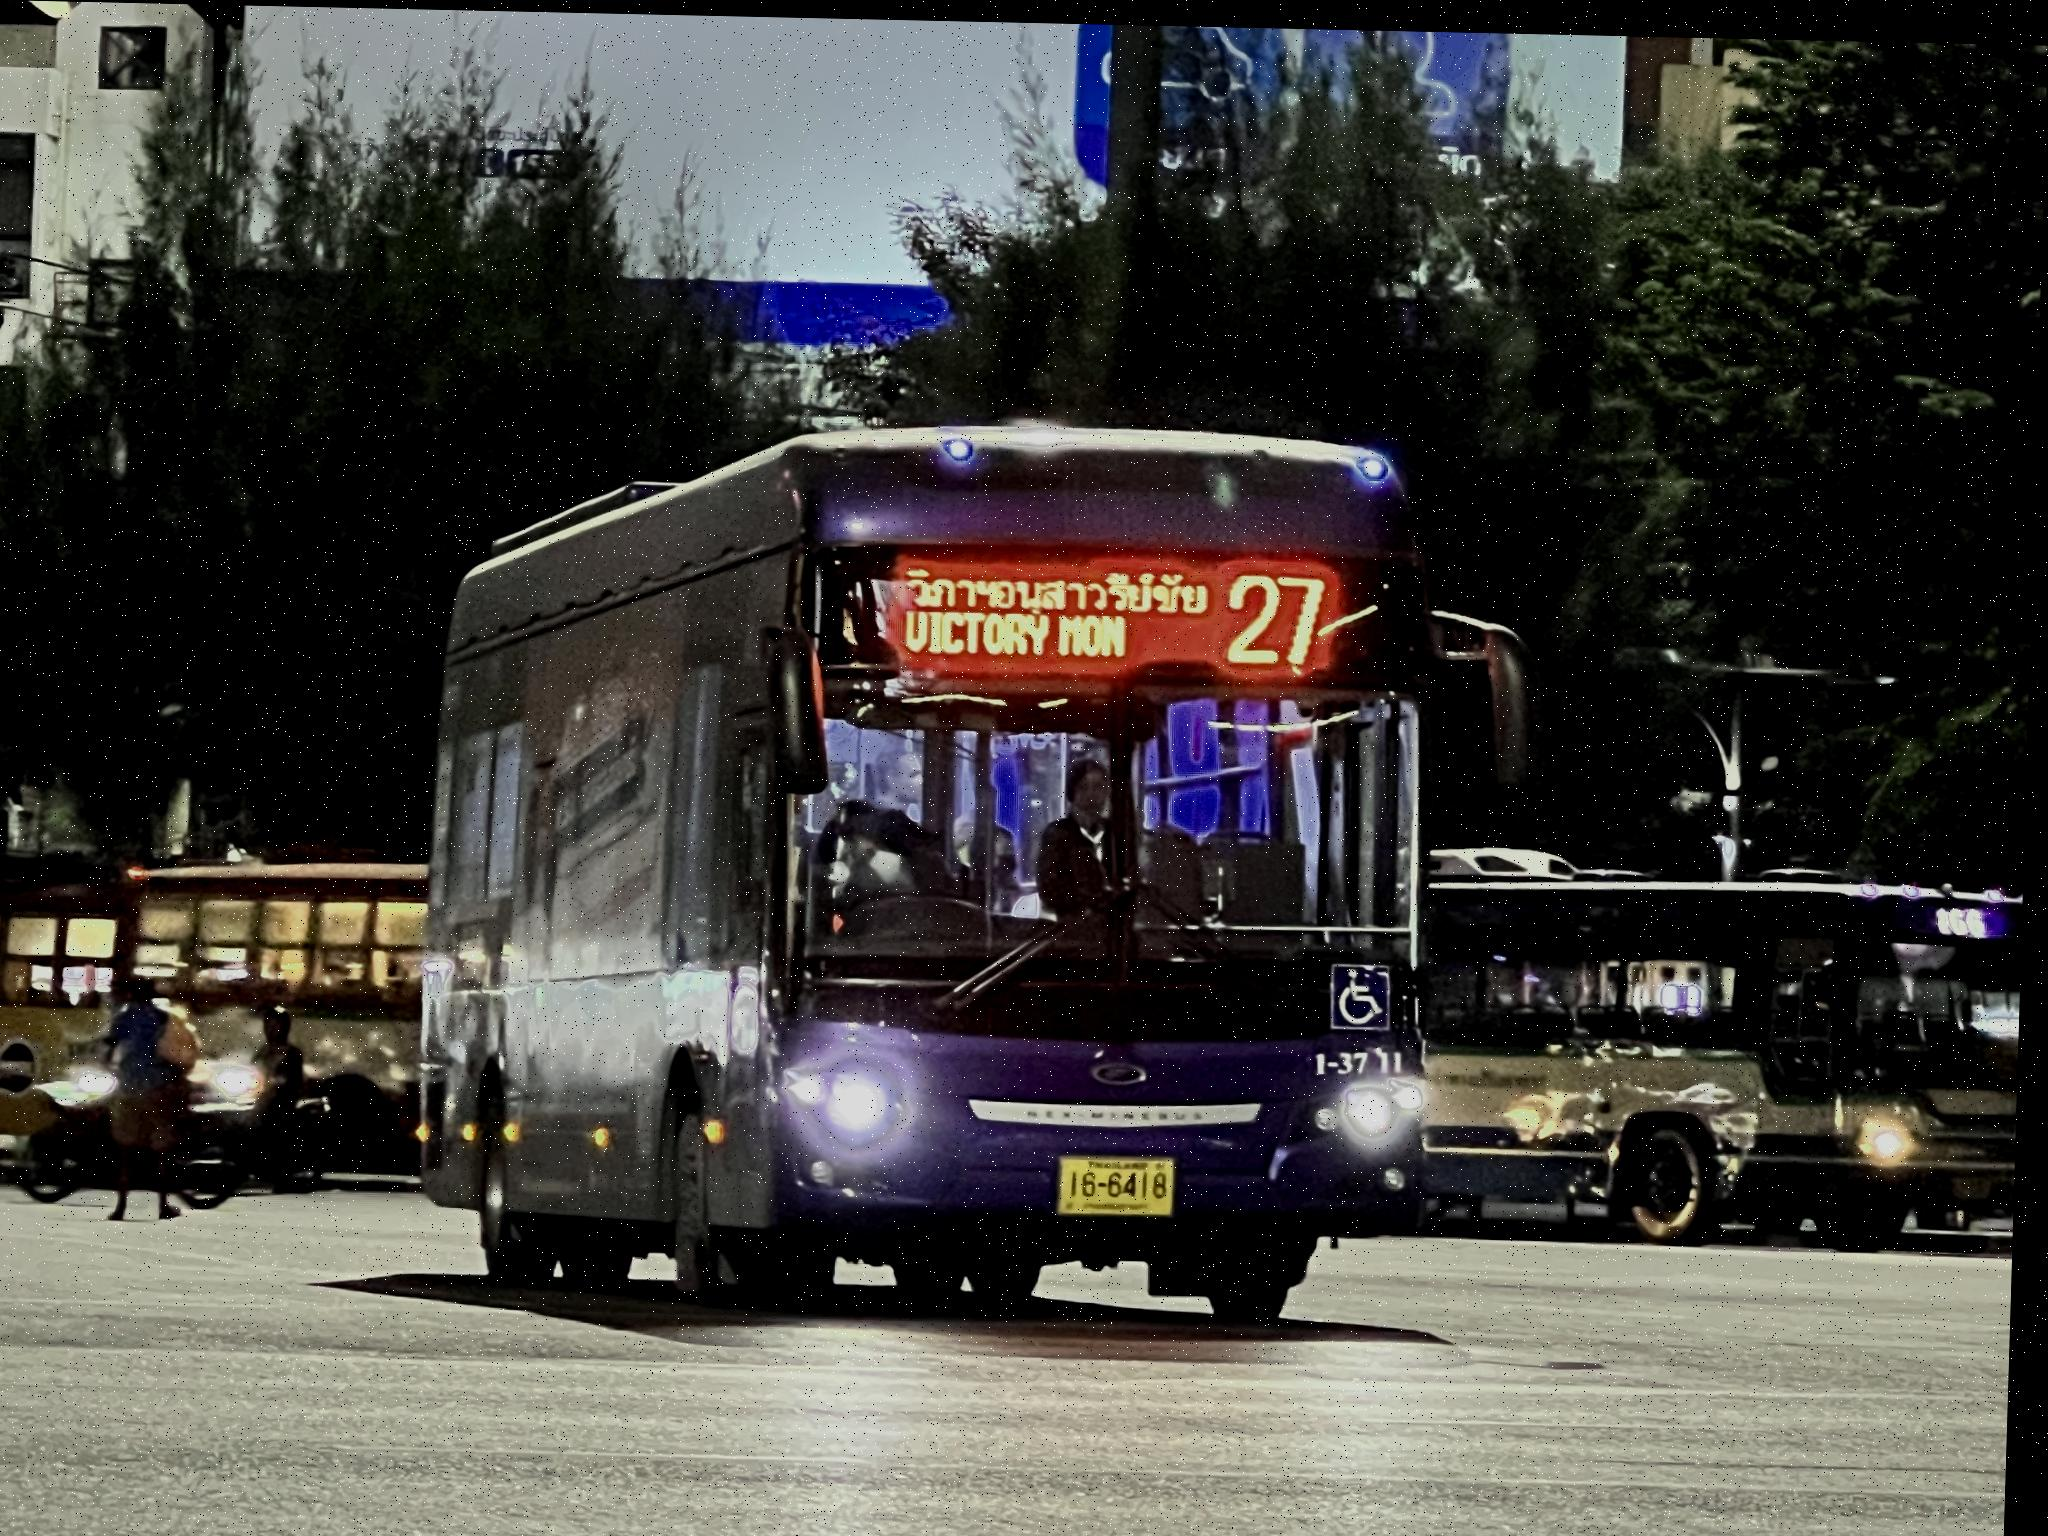BMTA-bus: (1426, 849, 2029, 1244), (0, 852, 429, 1187)
Bus Line Number: (1224, 552, 1337, 670)
Bus Side Number: (1311, 1039, 1421, 1079)
Destination Sign: (895, 550, 1219, 663)
TSB-Bus: (418, 419, 1437, 1320)
